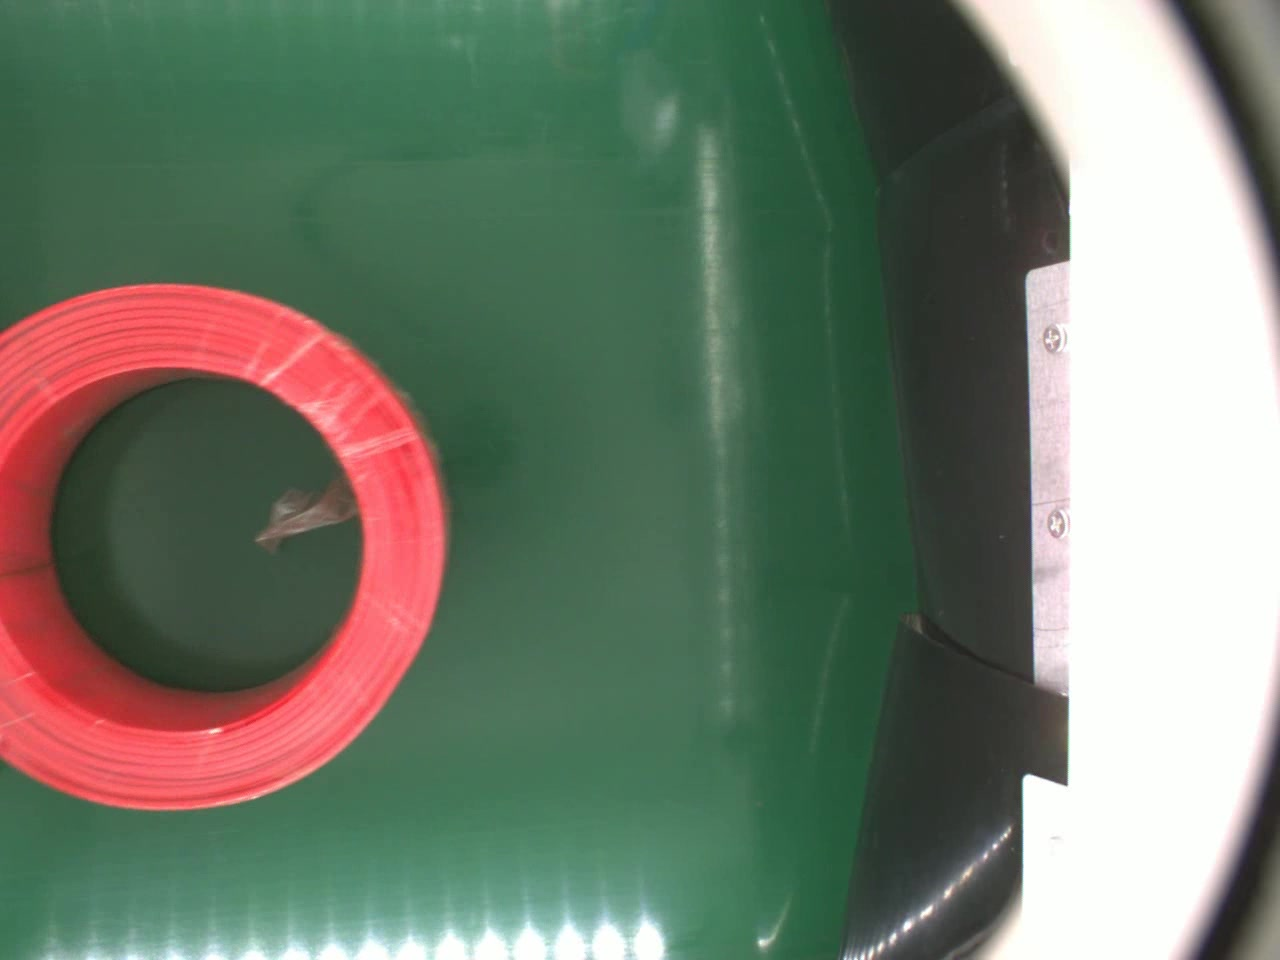red: (1, 283, 449, 805)
